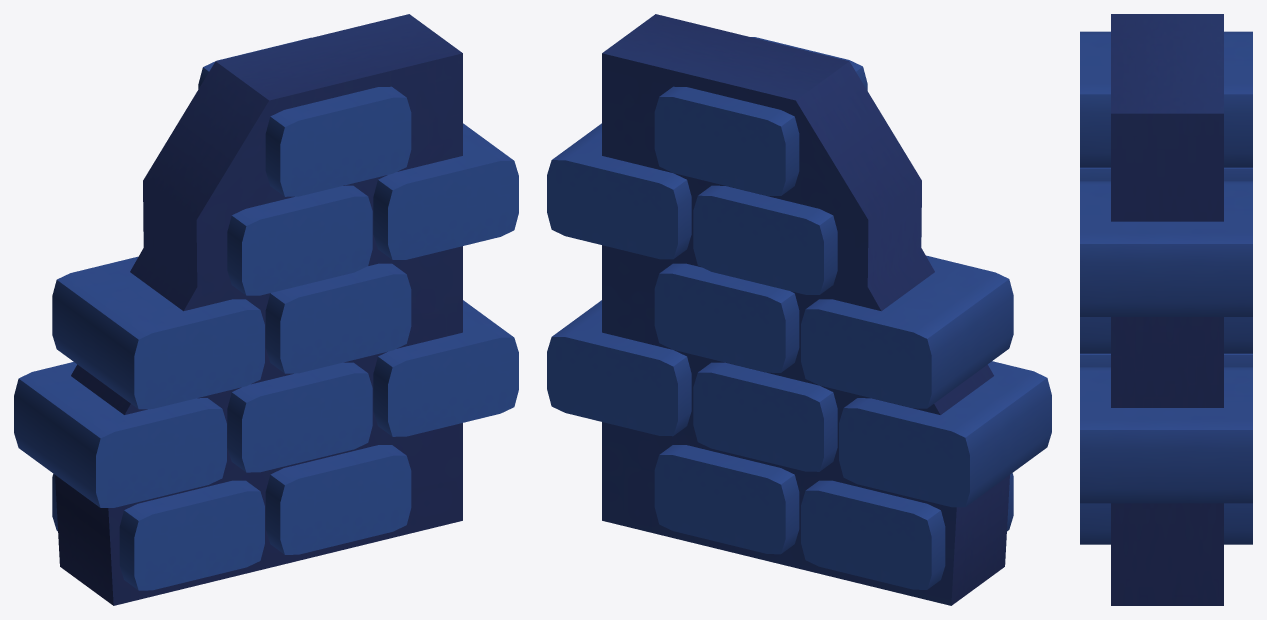
The model's file is SM_WallEnd_01.fbx.
3 views of the same model, side by side, from view 1: azimuth 30°, elevation 25°; view 2: azimuth 150°, elevation 25°; view 3: azimuth 270°, elevation 25° (orthographic). The views are drawn at different scales.
Parts seen in each view (by area): view 1: polySurface243; view 2: polySurface243; view 3: polySurface243.
Boxes of the visible parts, x1=… form: polySurface243: x1=14, y1=14, x2=518, y2=605; polySurface243: x1=547, y1=14, x2=1051, y2=605; polySurface243: x1=1080, y1=14, x2=1252, y2=605.
Bounding box in the file's own units: 97.69 × 103 × 32.83.
